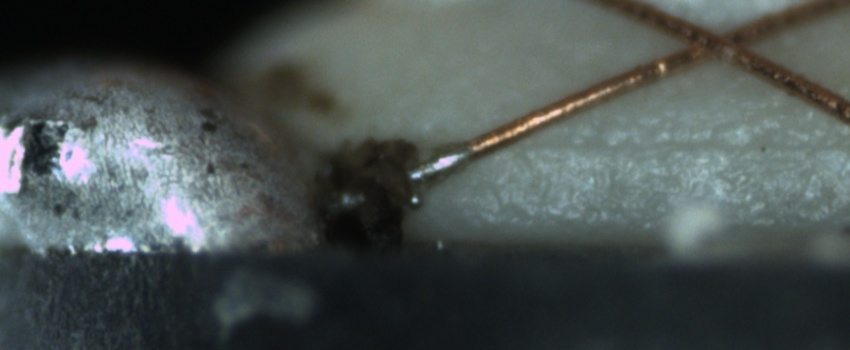CL: (663, 12, 763, 72)
DL: (464, 114, 850, 178)
TS: (329, 140, 470, 216)
TTCW: (325, 125, 501, 219)
